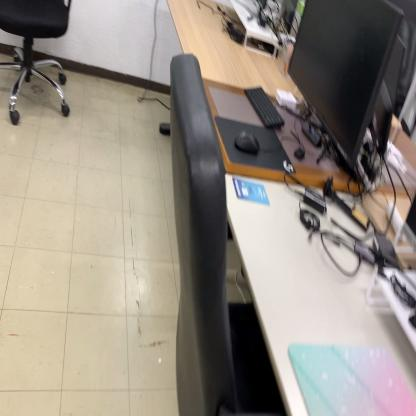chair: (162, 47, 296, 416), (0, 0, 75, 135)
